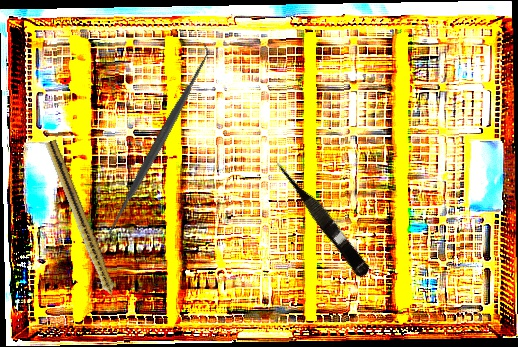Handpiece: (41, 139, 124, 313)
Micro Scissor: (270, 153, 375, 280)
Spatula Surgical: (95, 41, 223, 247)
